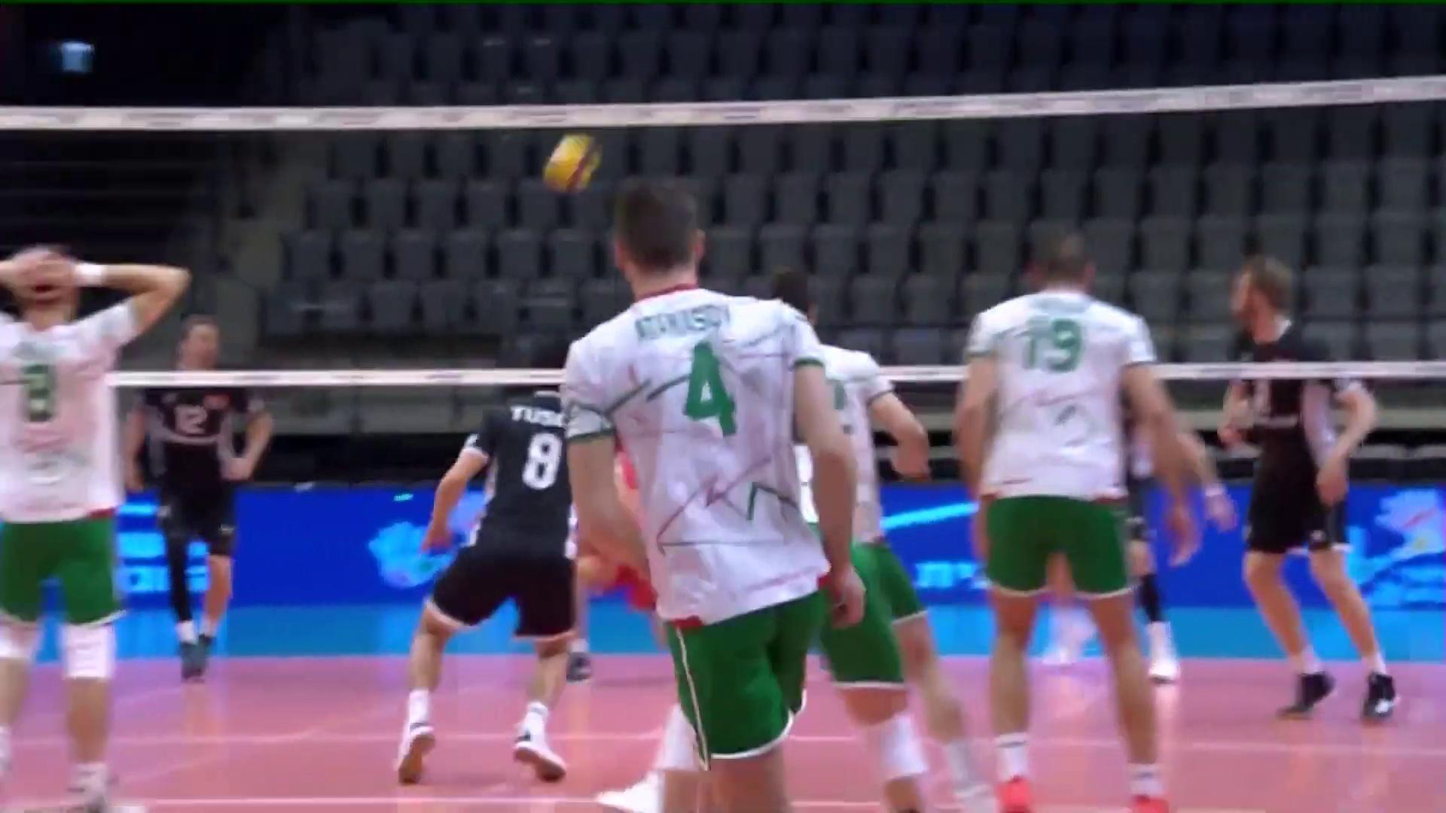ball: (543, 131, 606, 193)
